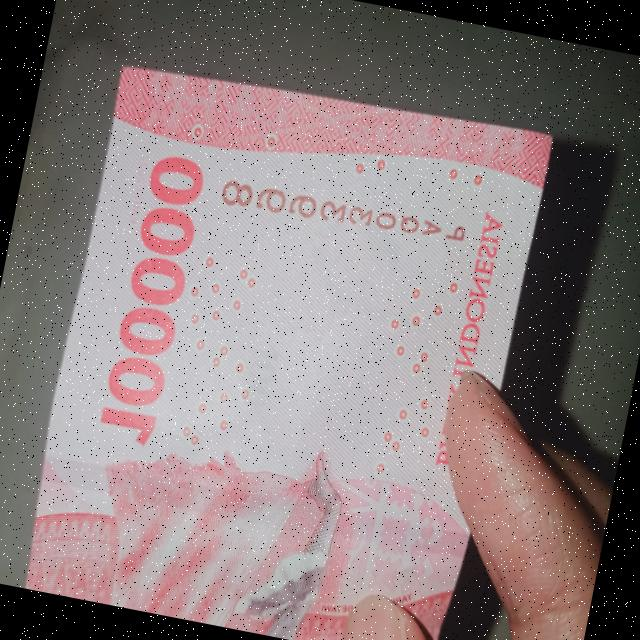100K: (9, 38, 565, 640)
